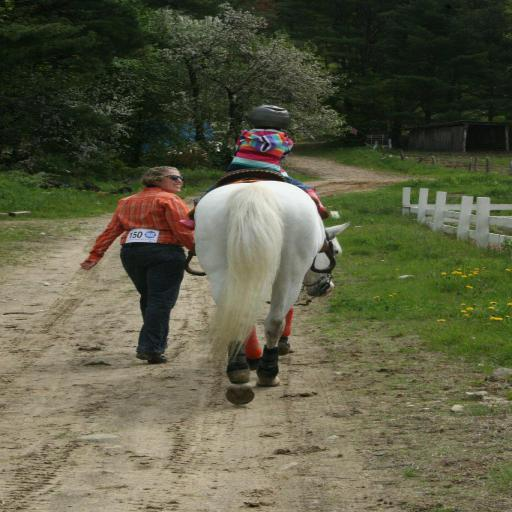Horse: (184, 171, 349, 402)
